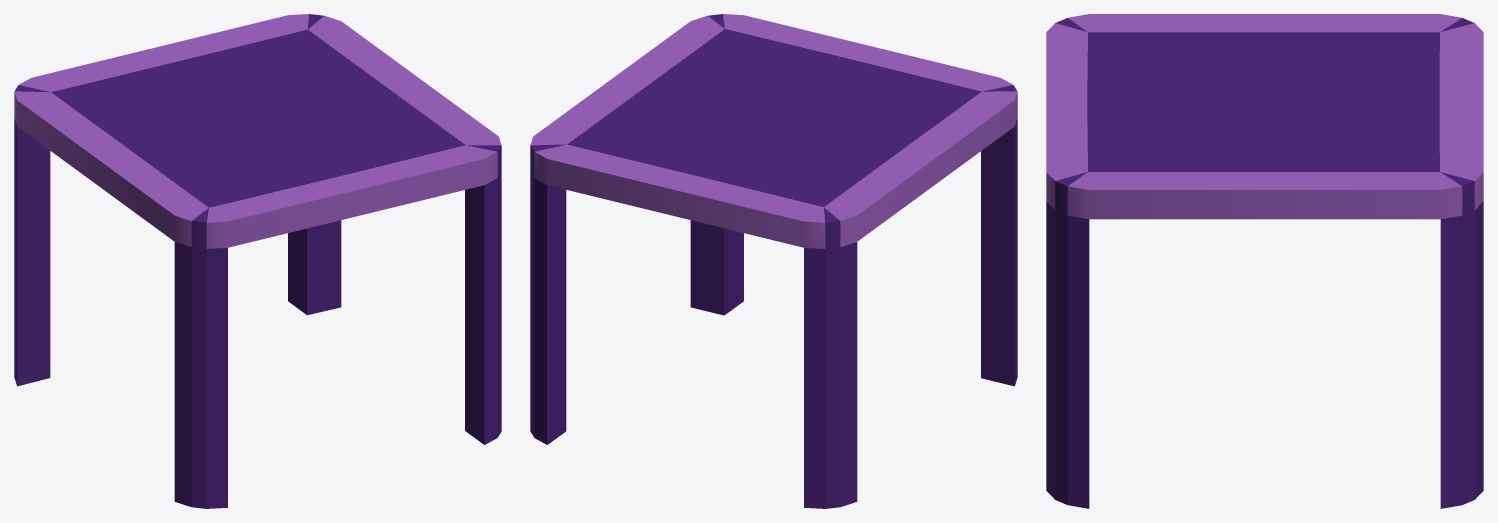
File: Endtable Woo.FBX
3 renders of one model, left to right at view 1: azimuth 30°, elevation 25°; view 2: azimuth 150°, elevation 25°; view 3: azimuth 270°, elevation 25°, orthographic. The views are drawn at different scales.
Parts seen in each view (by area): view 1: Box001; view 2: Box001; view 3: Box001.
Part boxes in pixels (x1=…): Box001: x1=14, y1=14, x2=501, y2=508; Box001: x1=530, y1=14, x2=1017, y2=508; Box001: x1=1046, y1=14, x2=1483, y2=508.
Bounding box in the file's own units: 47.28 × 39.9 × 49.64.
